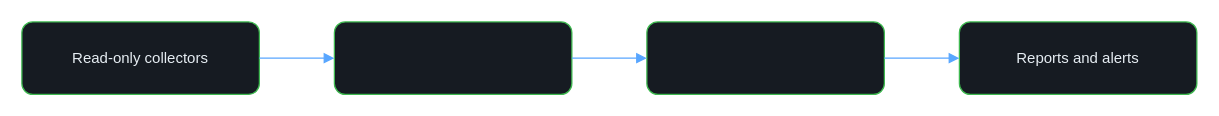
Some shapes in this 1219 by 116 pixel diagram are drawn without their labels. The centre of each missing label's shape, as x and y in pixels:
"Analysis rules" belongs at [765,57].
"Pure parsers" belongs at [452,57].
